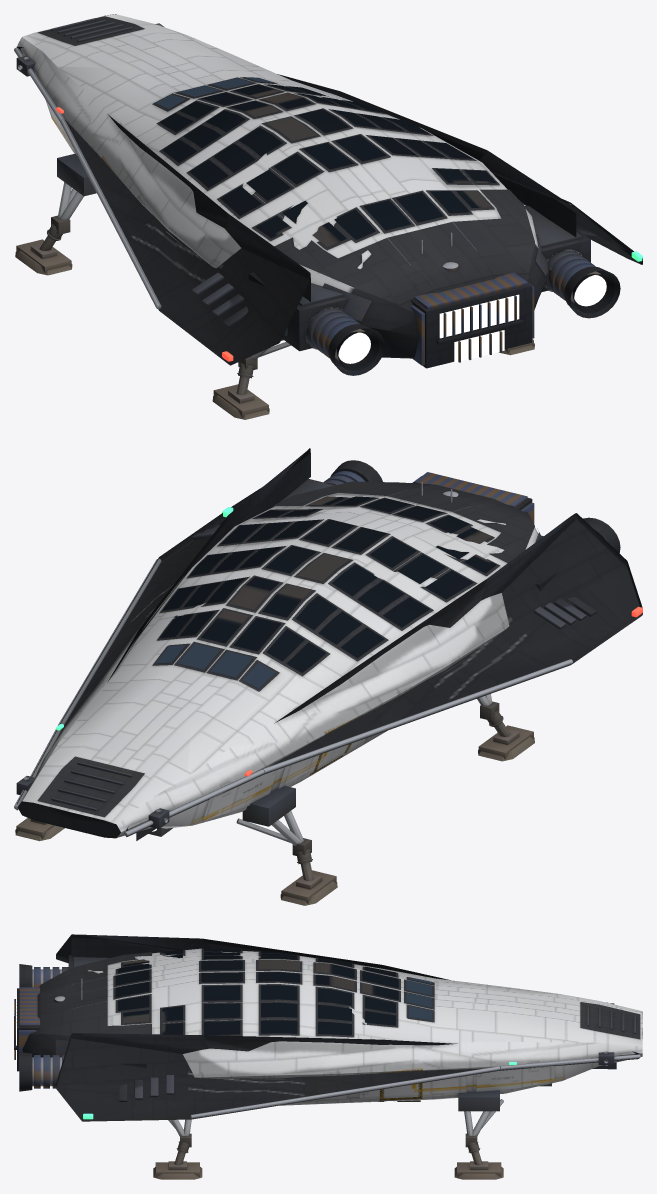
The model's file is ship-lander.glb.
3 renders of one model, top to bottom at view 1: azimuth 30°, elevation 25°; view 2: azimuth 150°, elevation 25°; view 3: azimuth 270°, elevation 25°, orthographic. The views are drawn at different scales.
Visible parts, largest first — view 1: Hull, Wings, Engine, Legs; view 2: Hull, Wings, Legs, Engine; view 3: Hull, Wings, Engine, Legs.
Boxes of the visible parts, x1=… form: Hull: x1=16, y1=14, x2=553, y2=358; Wings: x1=14, y1=46, x2=642, y2=365; Engine: x1=248, y1=205, x2=620, y2=375; Legs: x1=15, y1=153, x2=534, y2=419; Hull: x1=16, y1=481, x2=540, y2=838; Wings: x1=14, y1=448, x2=642, y2=840; Legs: x1=15, y1=694, x2=534, y2=905; Engine: x1=274, y1=460, x2=620, y2=590; Hull: x1=22, y1=948, x2=642, y2=1105; Wings: x1=56, y1=934, x2=640, y2=1121; Engine: x1=14, y1=955, x2=146, y2=1091; Legs: x1=153, y1=1090, x2=503, y2=1179.
Bounding box in the file's own units: 0.5892 × 0.2709 × 1.01.
Materials: 4 (1 with a texture image).
